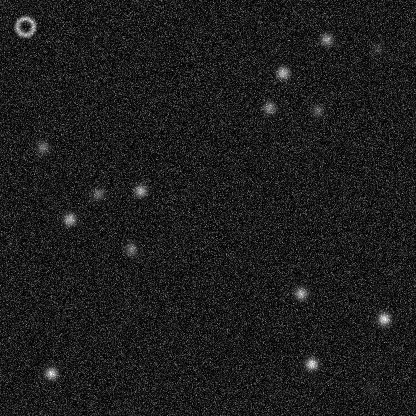Ring: (13, 14, 37, 38)
Spot: (274, 64, 290, 80), (132, 182, 148, 198), (369, 40, 385, 56), (122, 240, 138, 256), (260, 99, 276, 115), (43, 365, 59, 381), (61, 211, 77, 227), (375, 310, 391, 326), (89, 185, 105, 201), (363, 380, 379, 396), (34, 139, 50, 155), (309, 102, 325, 118), (318, 31, 334, 47), (303, 355, 319, 371), (292, 285, 308, 301)
